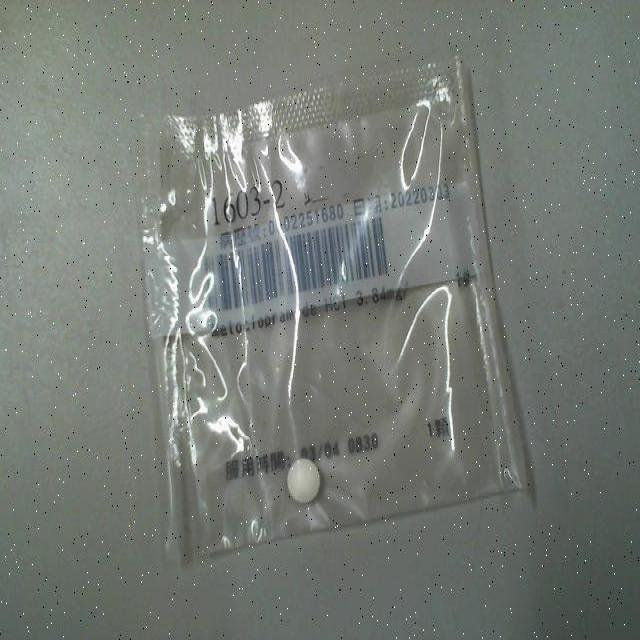pill: (285, 456, 322, 502)
